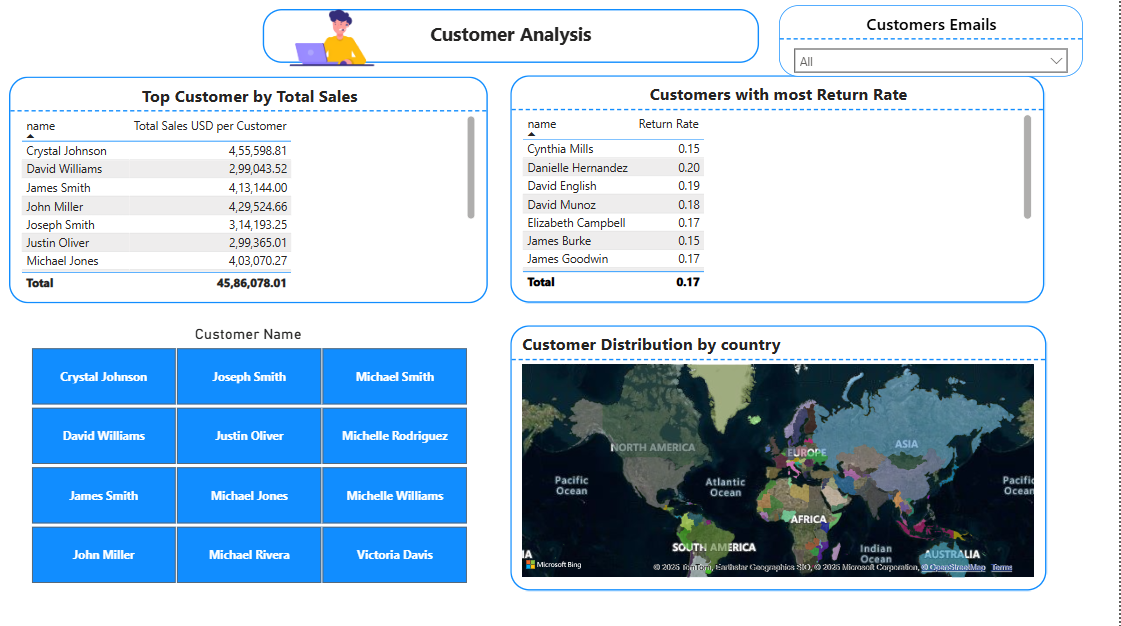

Layout of this report page (visuals, bound fields, positions):
{"tool":"powerbi","page":{"name":"Customer Analysis","canvas":[1280,720],"ordinal":1},"visuals":[{"type":"tableEx","title":"Top Customer by Total Sales","fields":{"Values":["ecom_maang customers.name","ecom_maang categories.Total Sales USD per Customer"]},"box":[12,89.2,547,259],"z":0},{"type":"tableEx","title":"Customers with most Return Rate","fields":{"Values":["ecom_maang customers.name","ecom_maang categories.Return Rate"]},"box":[584.3,87.1,610,260],"z":1000},{"type":"filledMap","title":"Customer Distribution by country","fields":{"Series":["ecom_maang customers.customer_id"],"Category":["ecom_maang customers.country"]},"box":[584.3,372.9,612.9,302.9],"z":2000},{"type":"textbox","box":[301.2,10.8,567.5,61.4],"z":3000},{"type":"image","box":[301.2,0,155.4,89.2],"z":4000},{"type":"slicer","title":"Customer Name","fields":{"Values":["ecom_maang customers.name"]},"box":[11.4,372.9,547.1,301.4],"z":5000},{"type":"slicer","title":"Customers Emails","fields":{"Values":["ecom_maang customers.email"]},"box":[891.4,7.1,347.1,81.4],"z":6000}]}

Visuals, with their boxes in screenshot pixels (x1, y1, x2, y2), scaled from the page's 1280x720 canvas onto the 1121x626 screenshot:
"Top Customer by Total Sales" tableEx: {"x1": 11, "y1": 78, "x2": 490, "y2": 303}
"Customers with most Return Rate" tableEx: {"x1": 512, "y1": 76, "x2": 1046, "y2": 302}
"Customer Distribution by country" filledMap: {"x1": 512, "y1": 324, "x2": 1048, "y2": 588}
textbox: {"x1": 264, "y1": 9, "x2": 761, "y2": 63}
image: {"x1": 264, "y1": 0, "x2": 400, "y2": 78}
"Customer Name" slicer: {"x1": 10, "y1": 324, "x2": 489, "y2": 586}
"Customers Emails" slicer: {"x1": 781, "y1": 6, "x2": 1085, "y2": 77}
